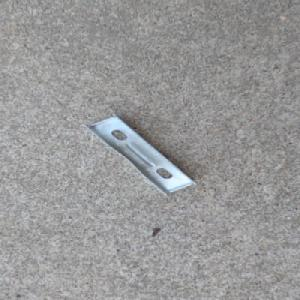ClampPart: (81, 112, 198, 196)
